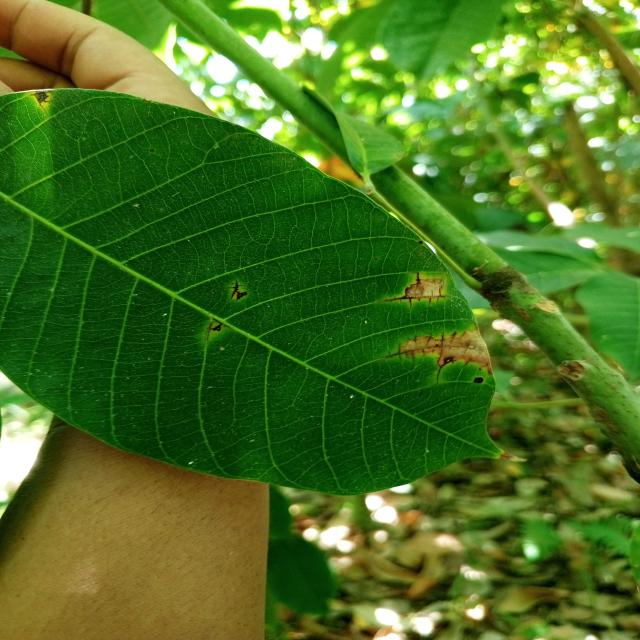Colletotrichum: (473, 377, 483, 384), (419, 240, 423, 244), (374, 258, 378, 260)
Corynespora: (375, 287, 445, 310), (381, 344, 417, 361), (27, 91, 53, 113), (436, 356, 454, 382), (228, 280, 247, 301), (208, 317, 230, 332), (410, 272, 422, 286)
Leaf-Blight: (403, 329, 492, 374), (406, 279, 443, 297)
